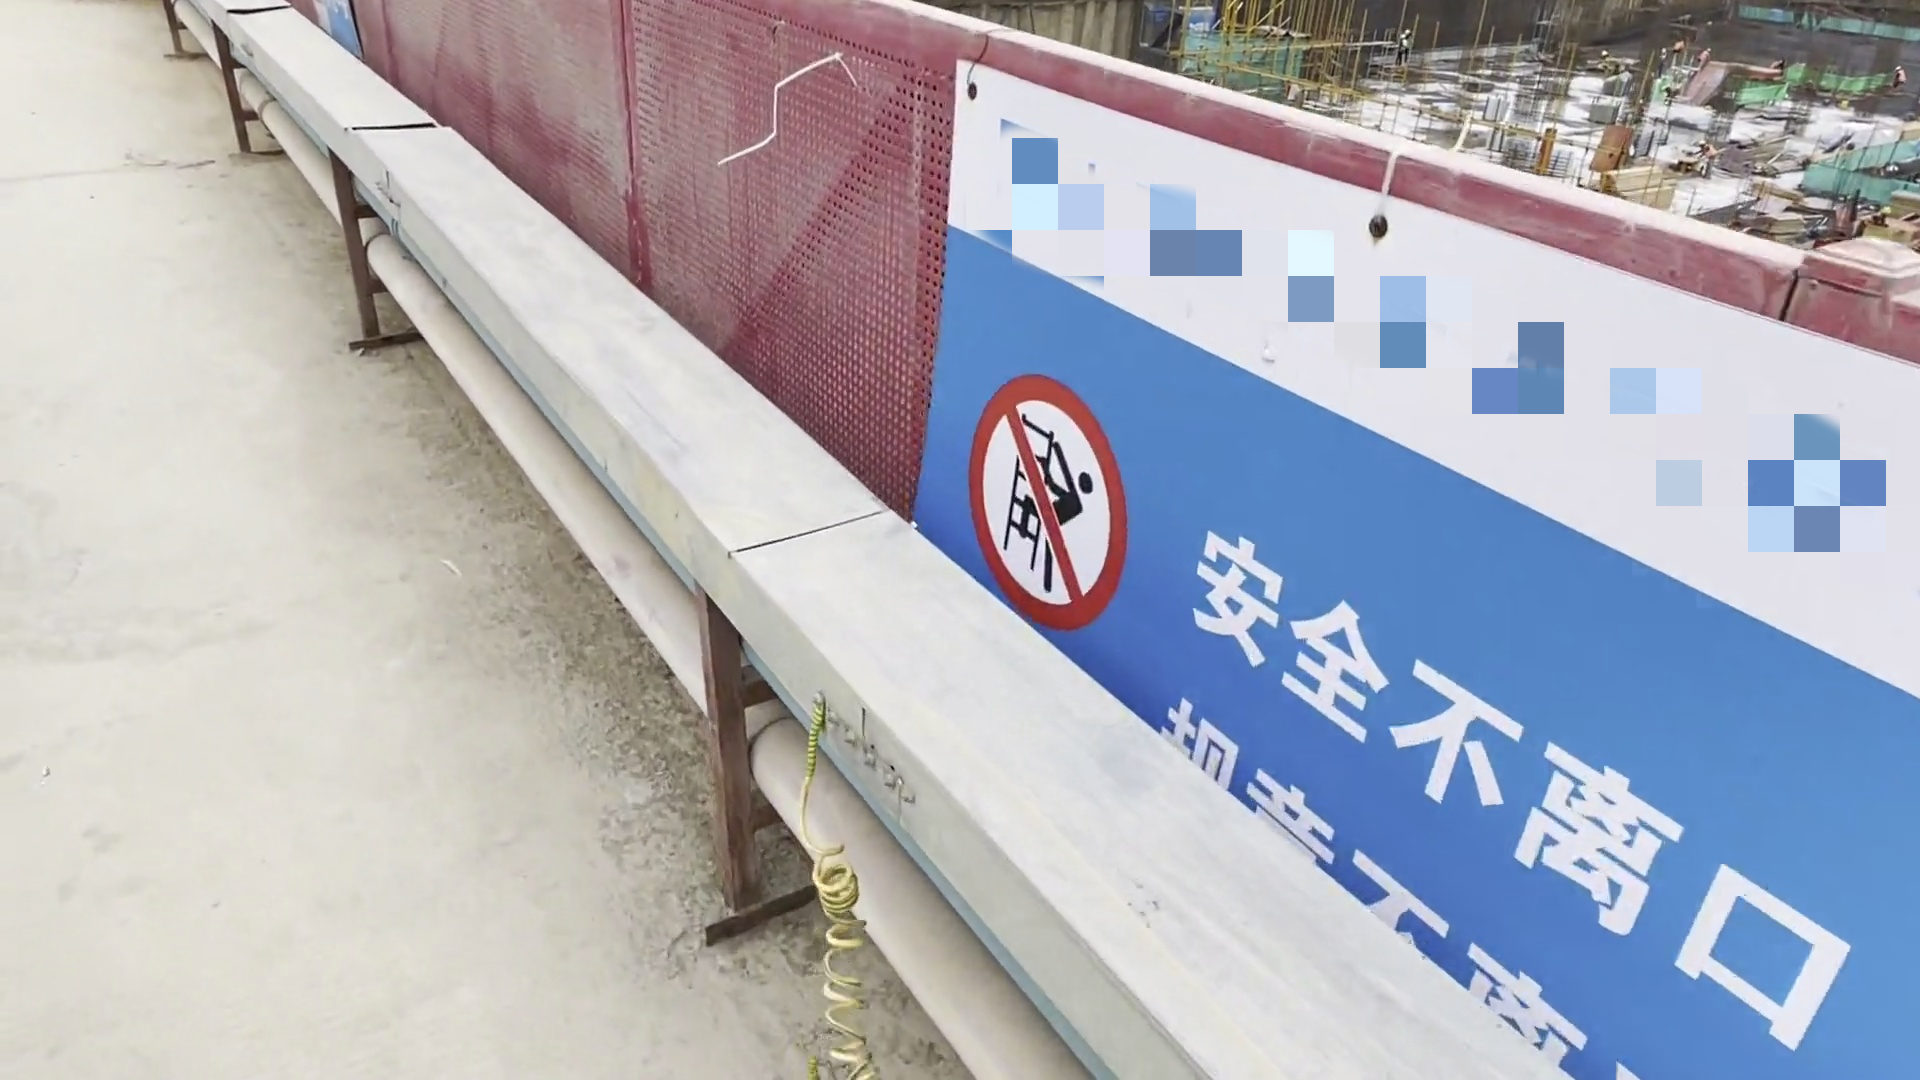slogan: (924, 47, 1874, 1080)
